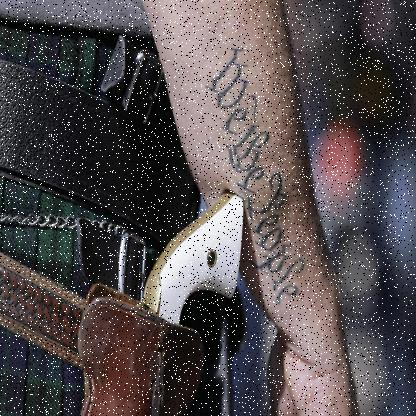pistol: (69, 196, 248, 414)
